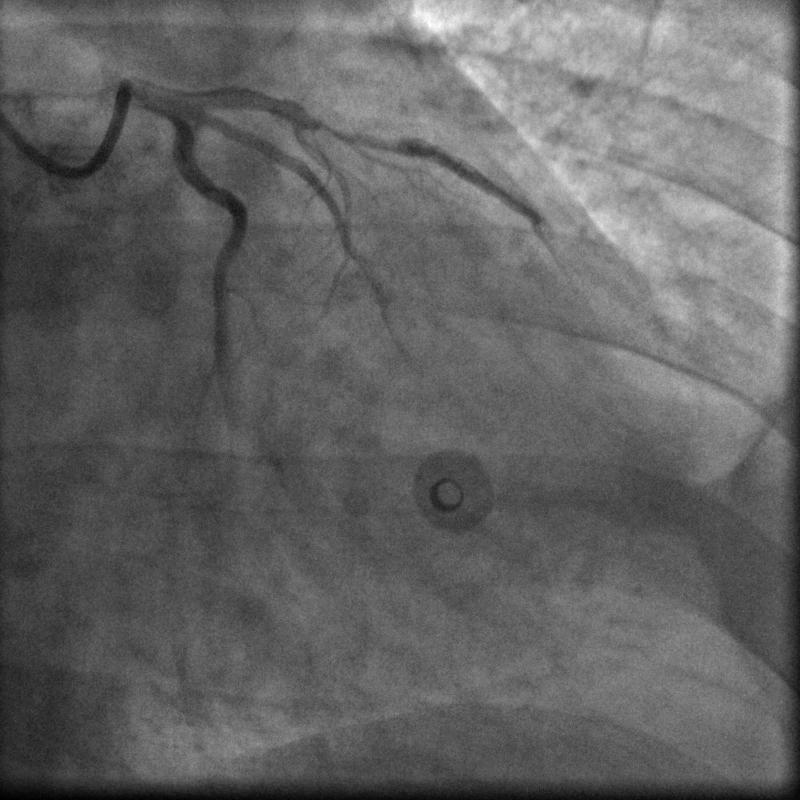Stenosis: (301, 116, 394, 151)
